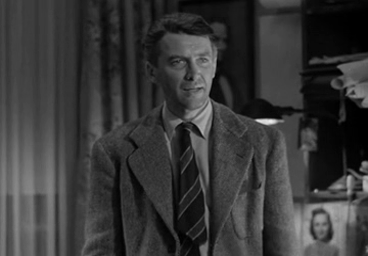face: (162, 43, 213, 110)
mcu: (1, 1, 368, 256)
person: (79, 11, 305, 256)
